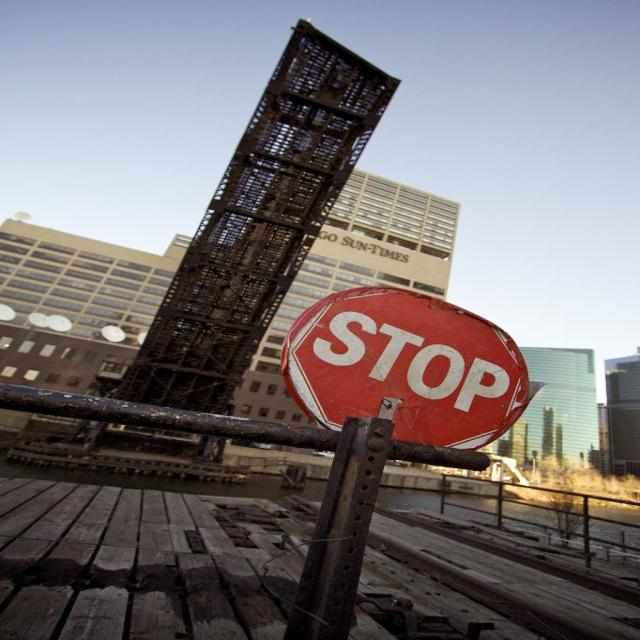Stop-sign: (280, 282, 528, 453)
